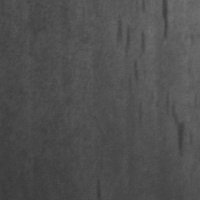inclusion: (115, 1, 150, 86), (160, 88, 198, 160), (126, 57, 144, 102), (157, 1, 176, 42), (94, 175, 106, 198)
